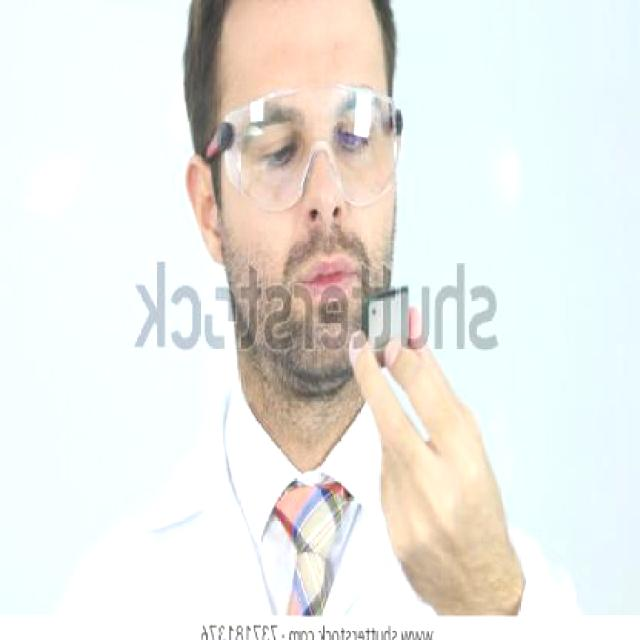face_nomask: (248, 99, 390, 315)
glasses: (202, 82, 406, 216)
hand_noglove: (339, 312, 530, 598)
person: (53, 0, 587, 612)
